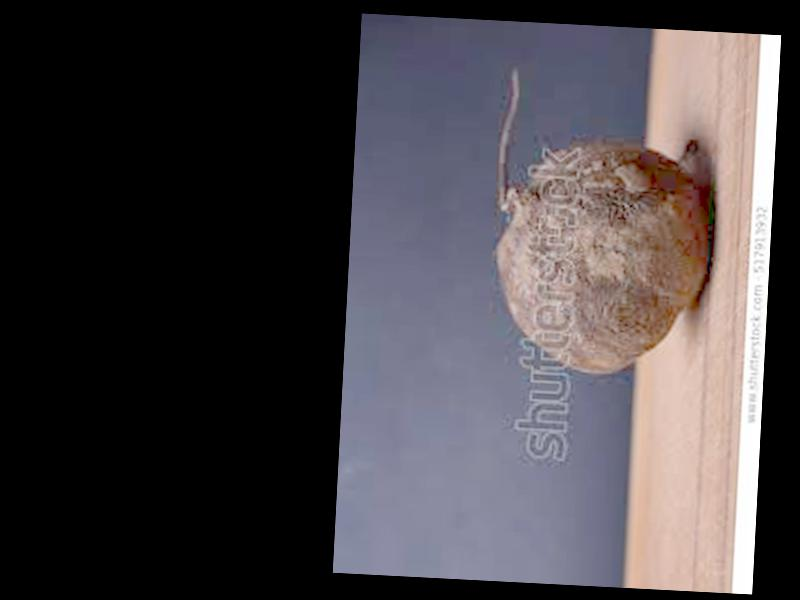Beet: (486, 64, 716, 378)
